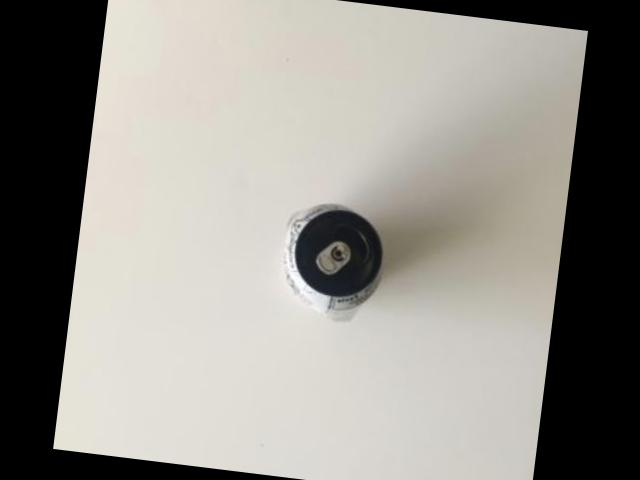metal: (285, 205, 384, 322)
